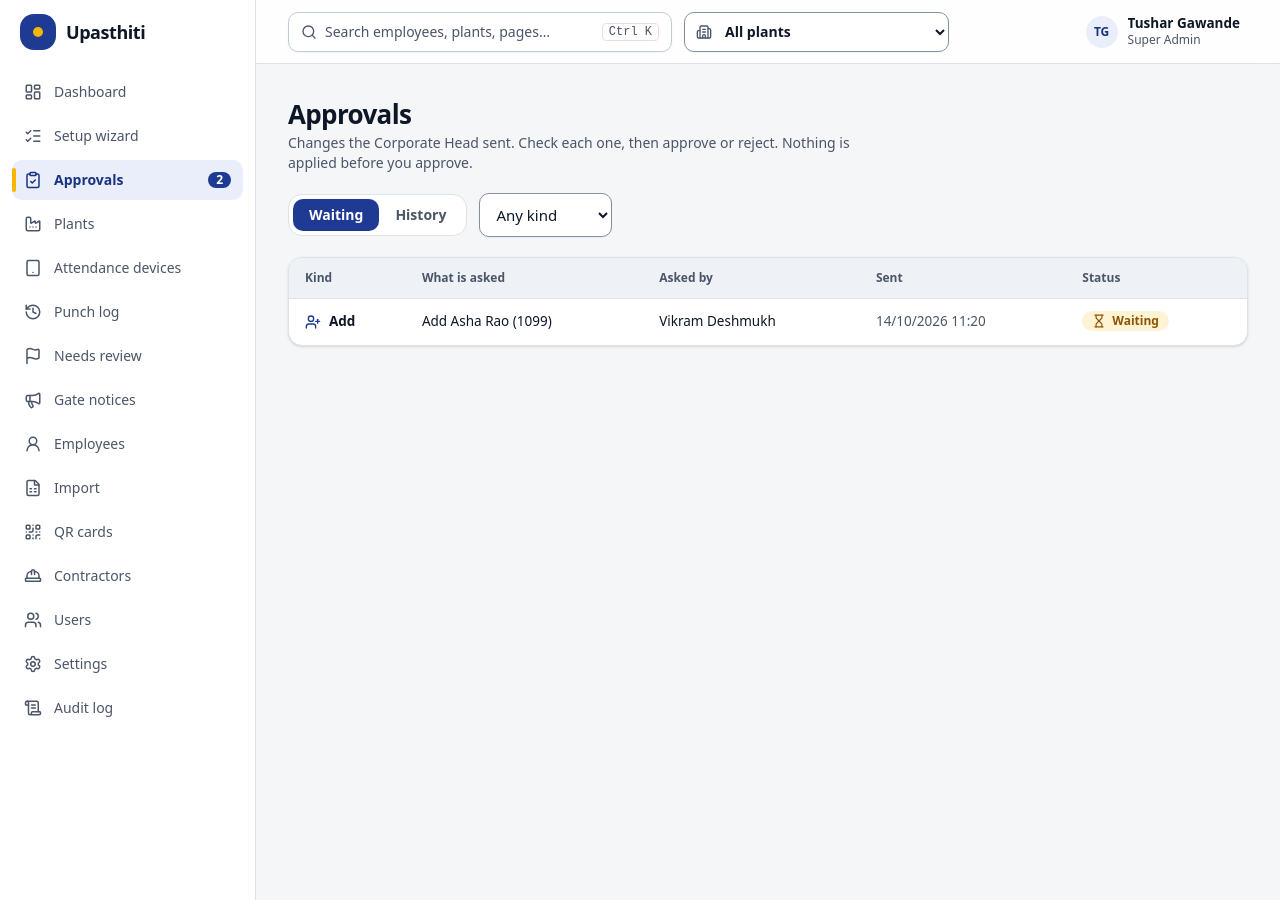
Test case: approvals inbox › explains when the change can no longer be applied
The width and height of the screenshot is (1280, 900).
Click the button "Add Asha Rao (1099)". click: point(487, 322)
box: top-left (422, 312), bottom-right (552, 331)
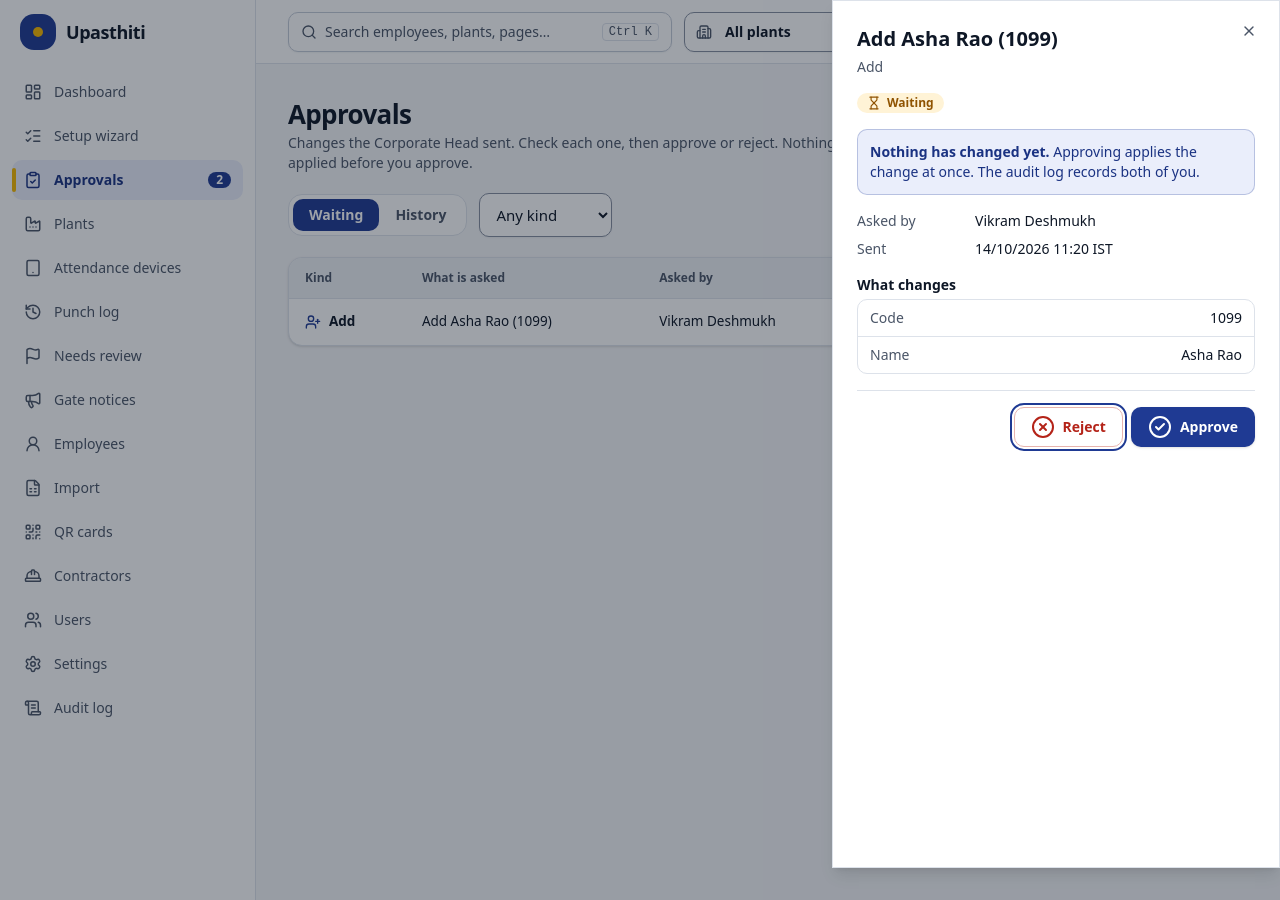
Click the button "Approve". click: point(1193, 427)
box: top-left (1131, 407), bottom-right (1255, 447)
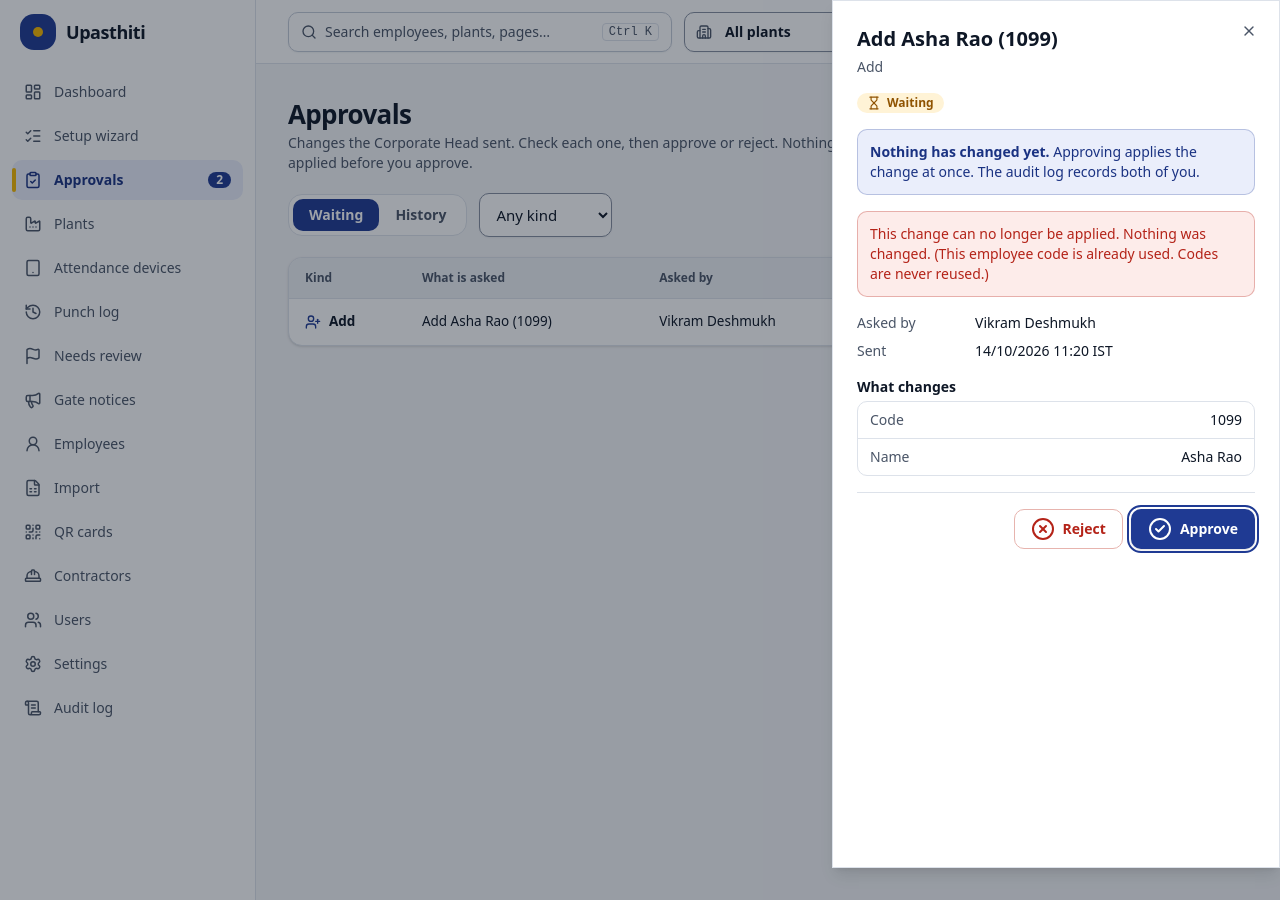
Check: the text "can no longer be applied" is shown, box top-left (870, 224), bottom-right (1206, 263)
Check: the text "already used" is shown, box top-left (870, 244), bottom-right (1218, 283)
